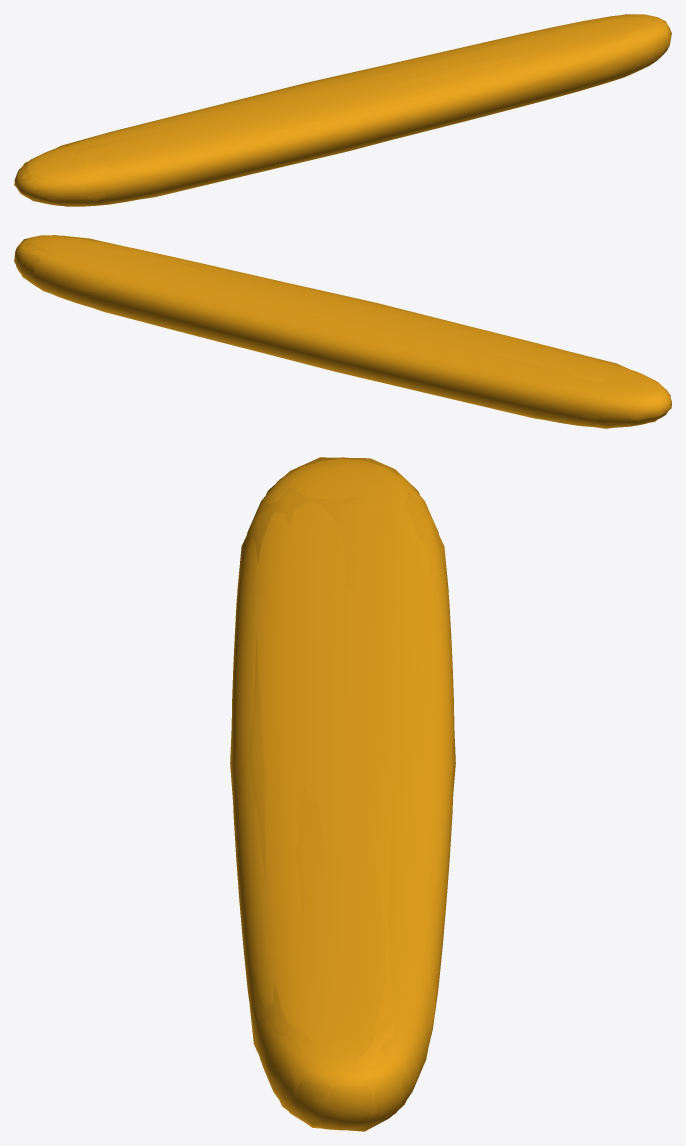
The model's file is yut-ricky.glb.
3 views of the same model, one above another, from view 1: azimuth 30°, elevation 25°; view 2: azimuth 150°, elevation 25°; view 3: azimuth 270°, elevation 25° (orthographic). The views are drawn at different scales.
Parts seen in each view (by area): view 1: backup, Cube.001; view 2: backup, Cube.001; view 3: backup, Cube.001.
Part boxes in pixels (x1,y1,x2,y2): backup: (14, 14, 670, 206); Cube.001: (14, 14, 671, 206); backup: (14, 235, 671, 427); Cube.001: (14, 235, 671, 428); backup: (231, 457, 454, 1130); Cube.001: (230, 457, 455, 1131).
Size of the model in its own units: 12.39 by 0.9396 by 1.86.
